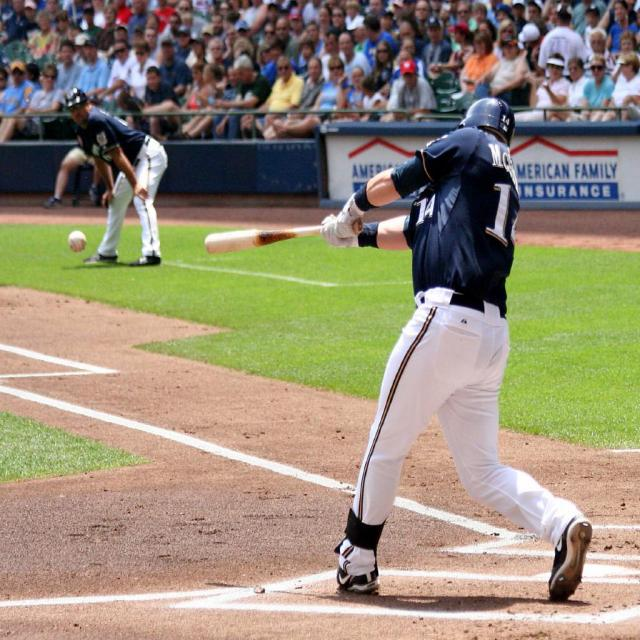baseball: (68, 229, 88, 253)
